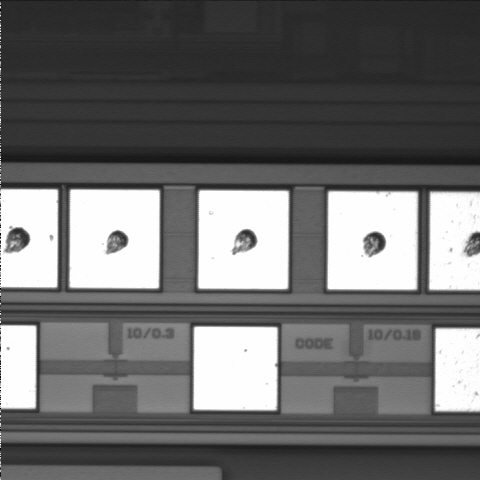pad: (198, 191, 289, 289), (328, 191, 418, 290), (70, 190, 160, 288), (194, 327, 277, 410)
